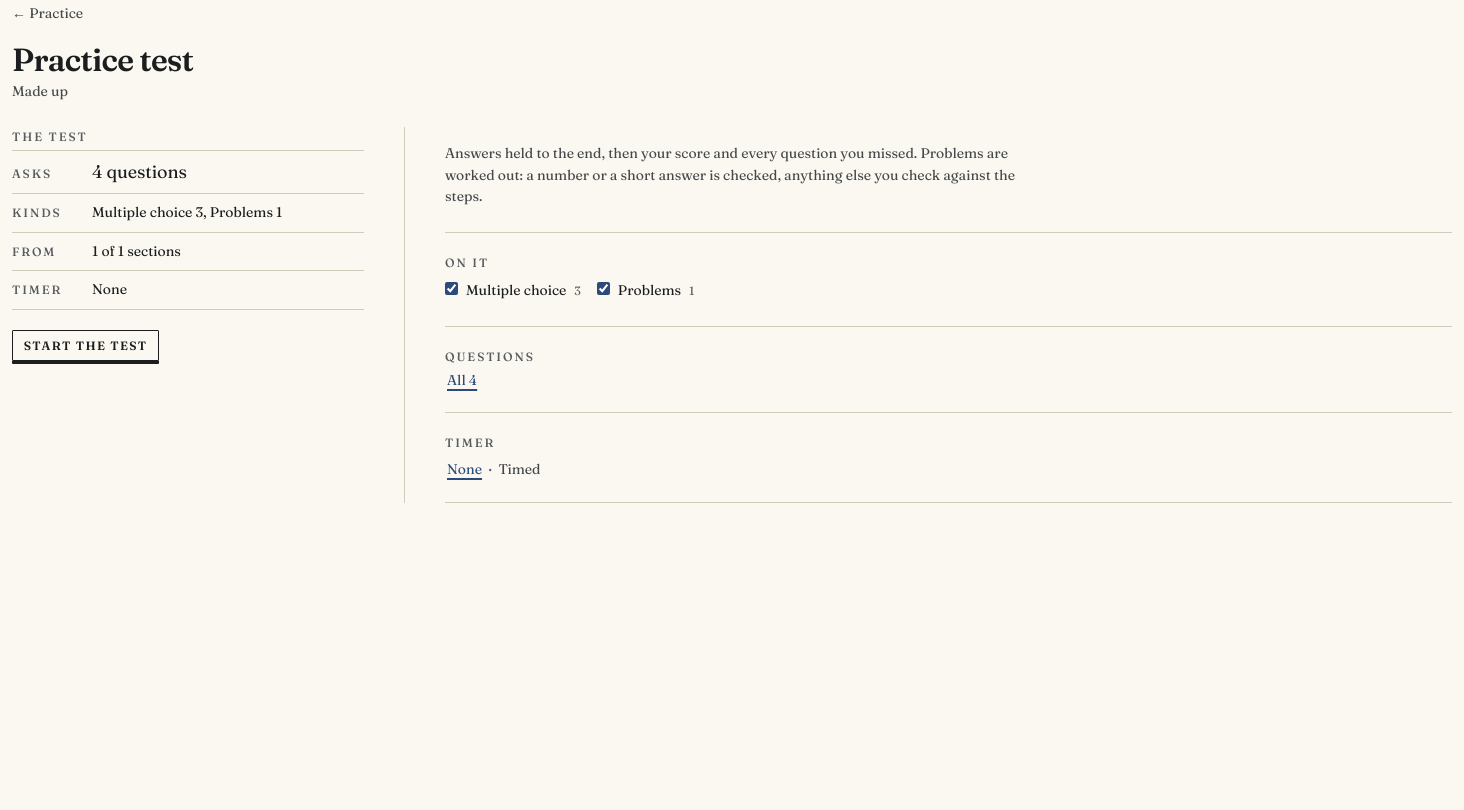
Test: practice test: problems to work out › takes problems when ticked, asks for a number it can read, and marks it at the end with the mistake behind it
Earlier steps of the test are not shown.
Click the checkbox labelled "Multiple choice 3": (452, 289) [445,282,458,295]
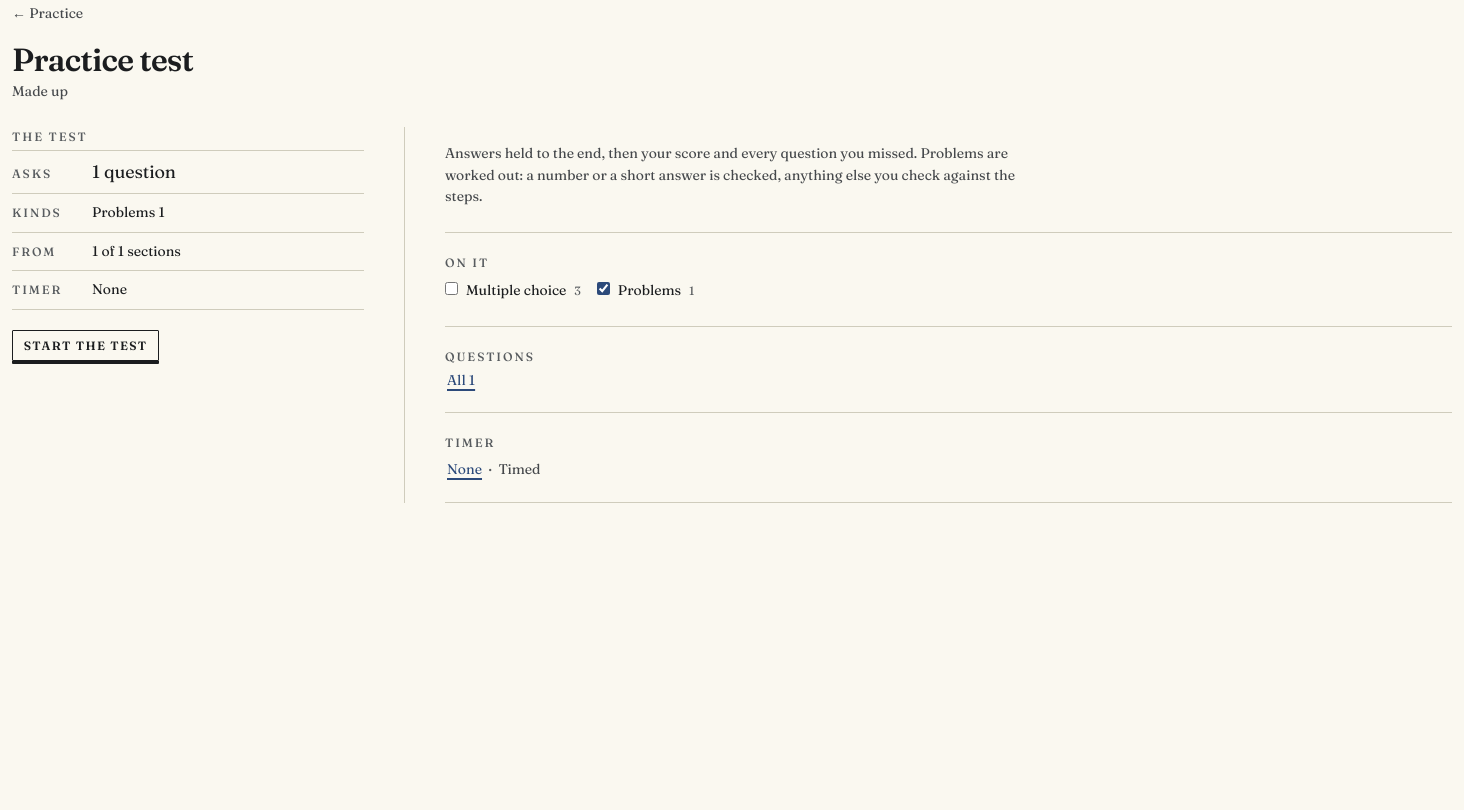
Click the button "Start the test": (86, 346) [12,330,159,361]
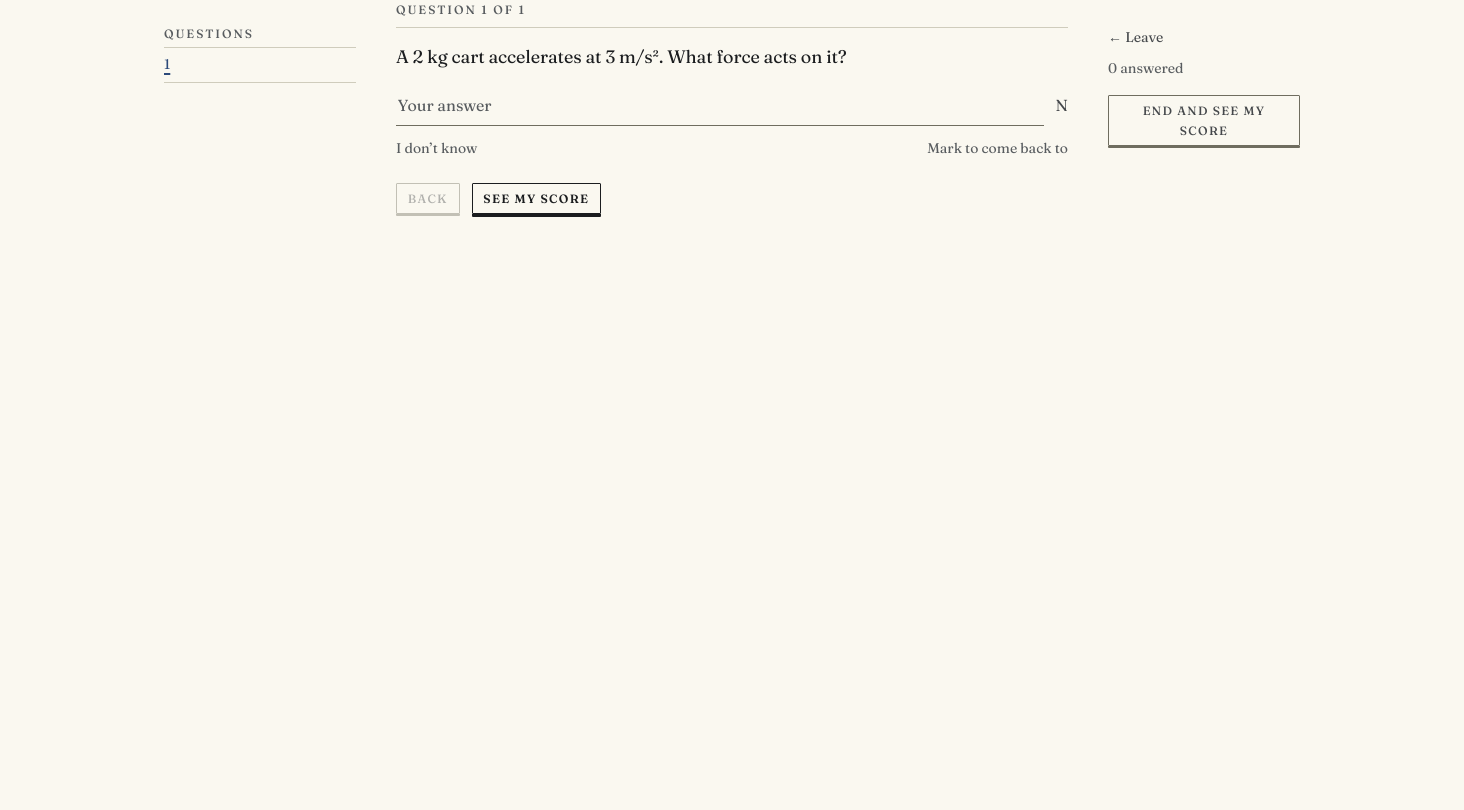
In the field named "Your answer, in N": (720, 106) [396,85,1044,126], type "six"
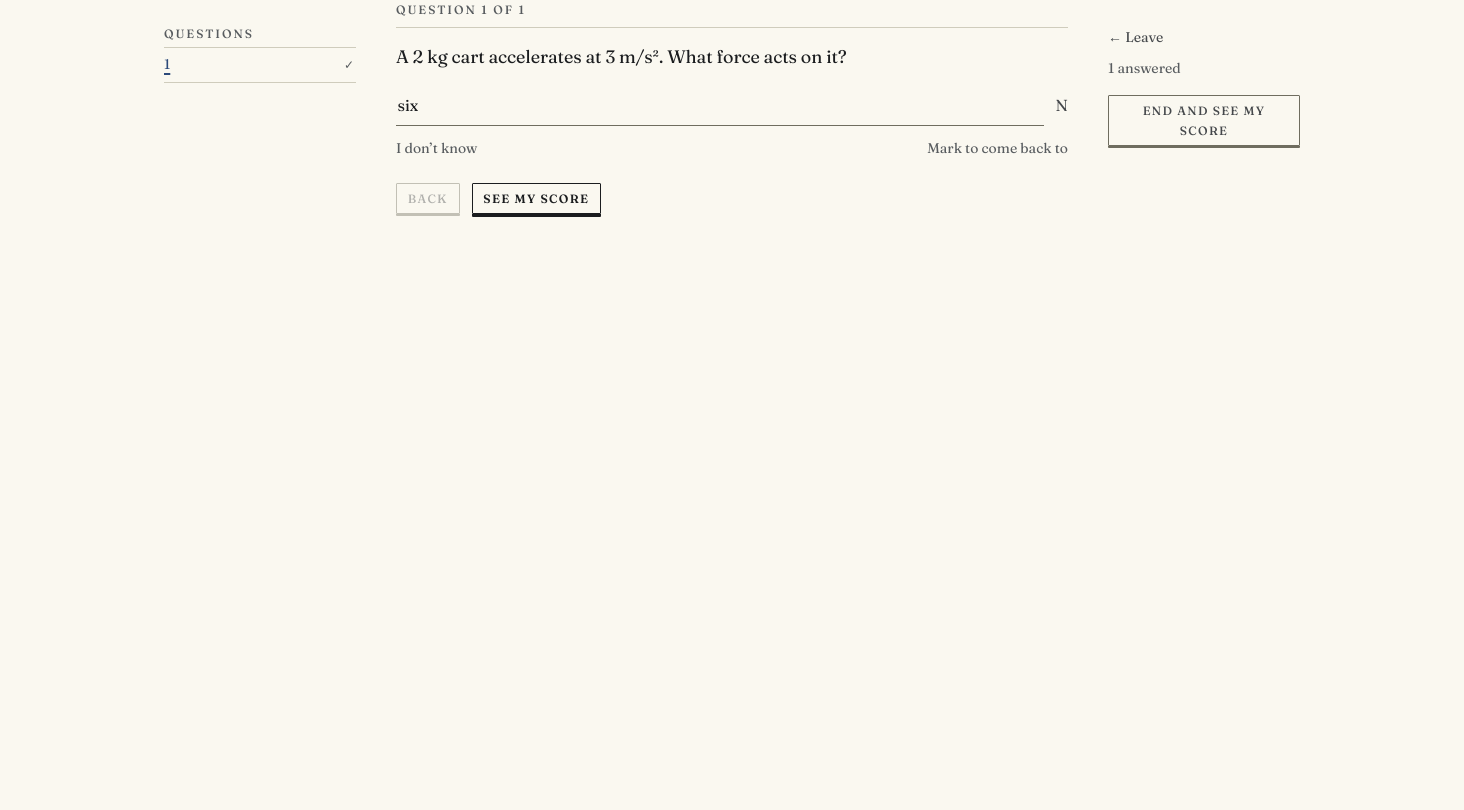
Submit the form named "Your answer, in N", box [396,85,1068,126]
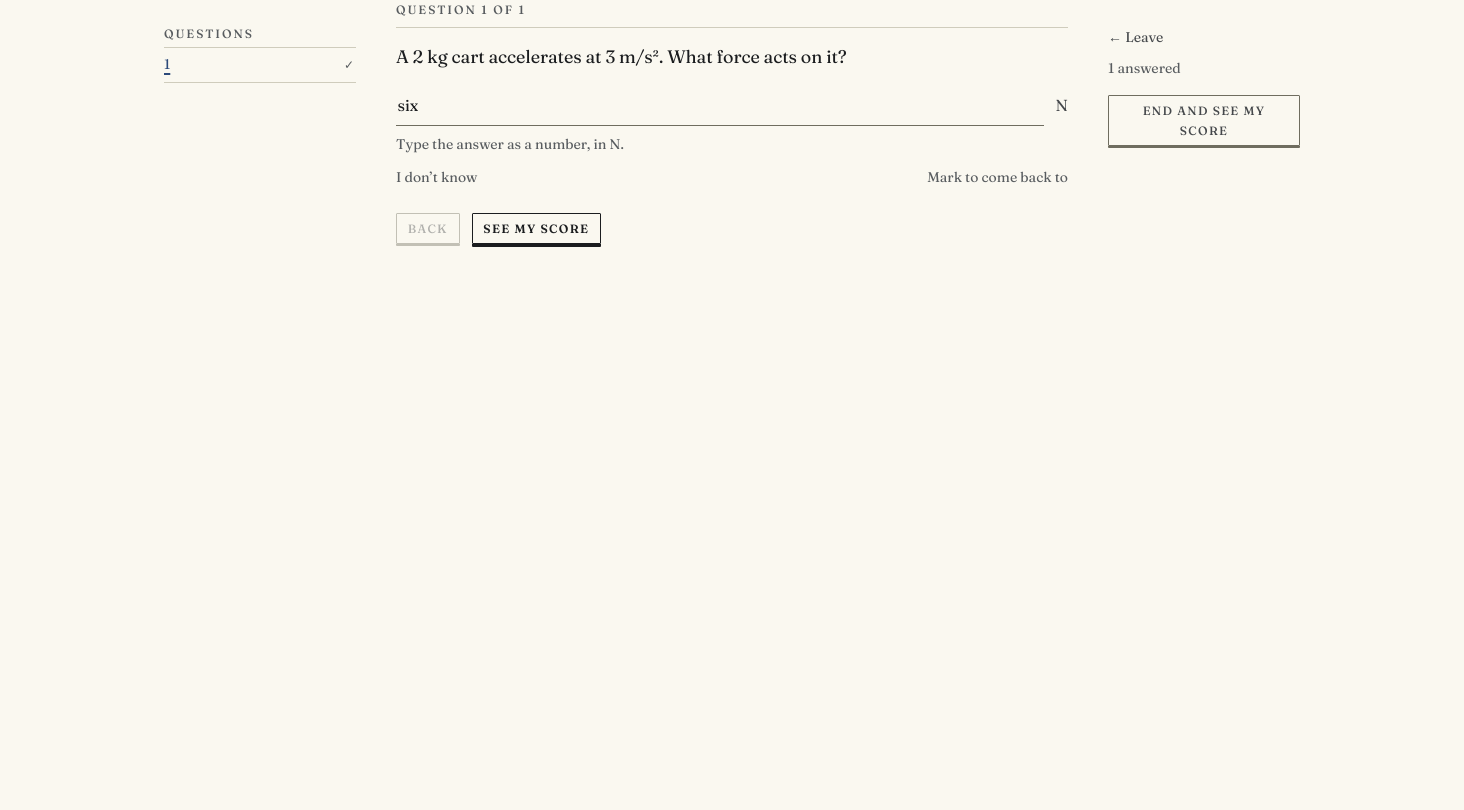
Expected: the text "Type the answer as a number, in N." is shown, [396,134,624,152]
Replace the text in the field named "Your answer, in N" with "1.5": (720, 106) [396,85,1044,126]
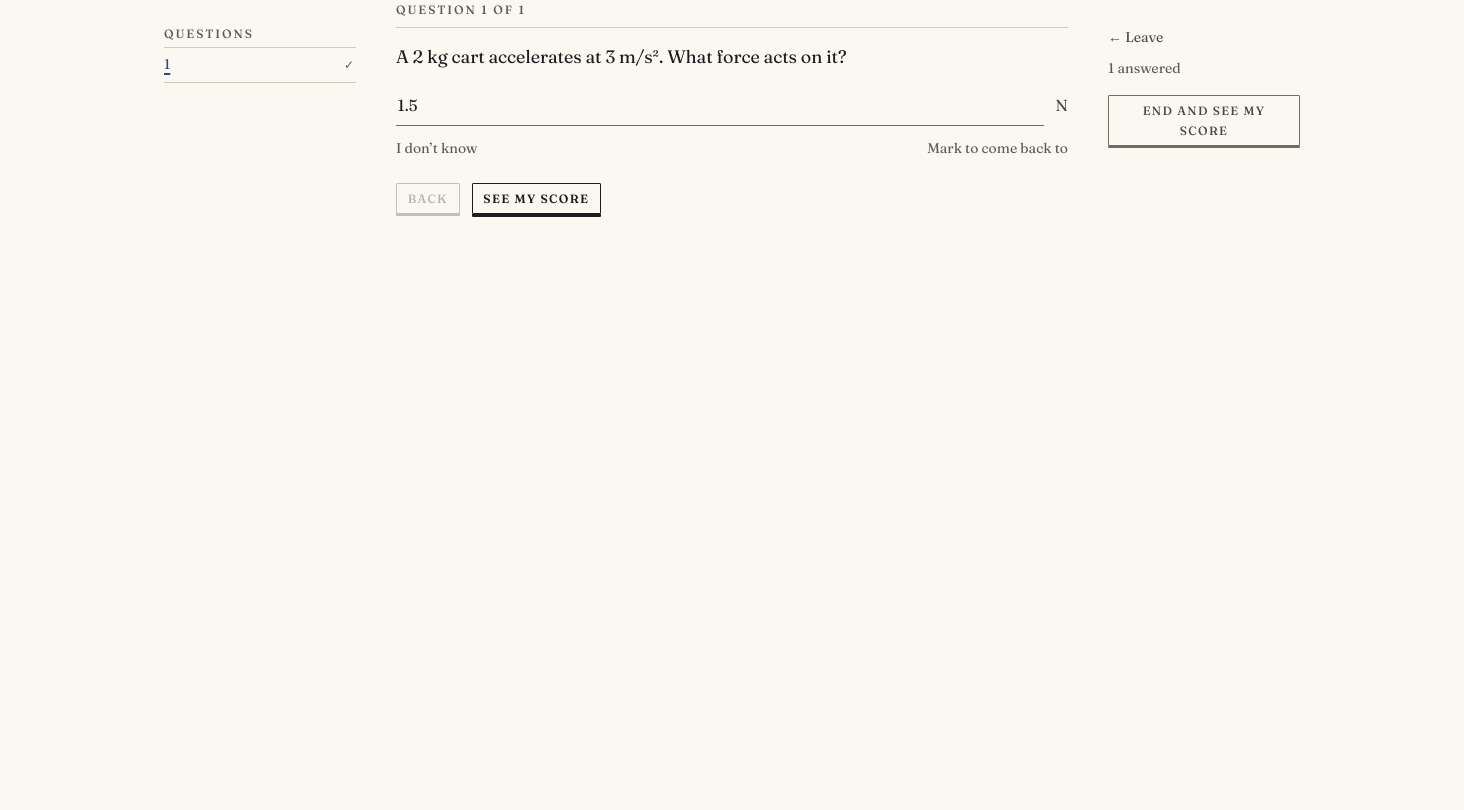
Click the button "See my score": (536, 199) [472,183,601,214]
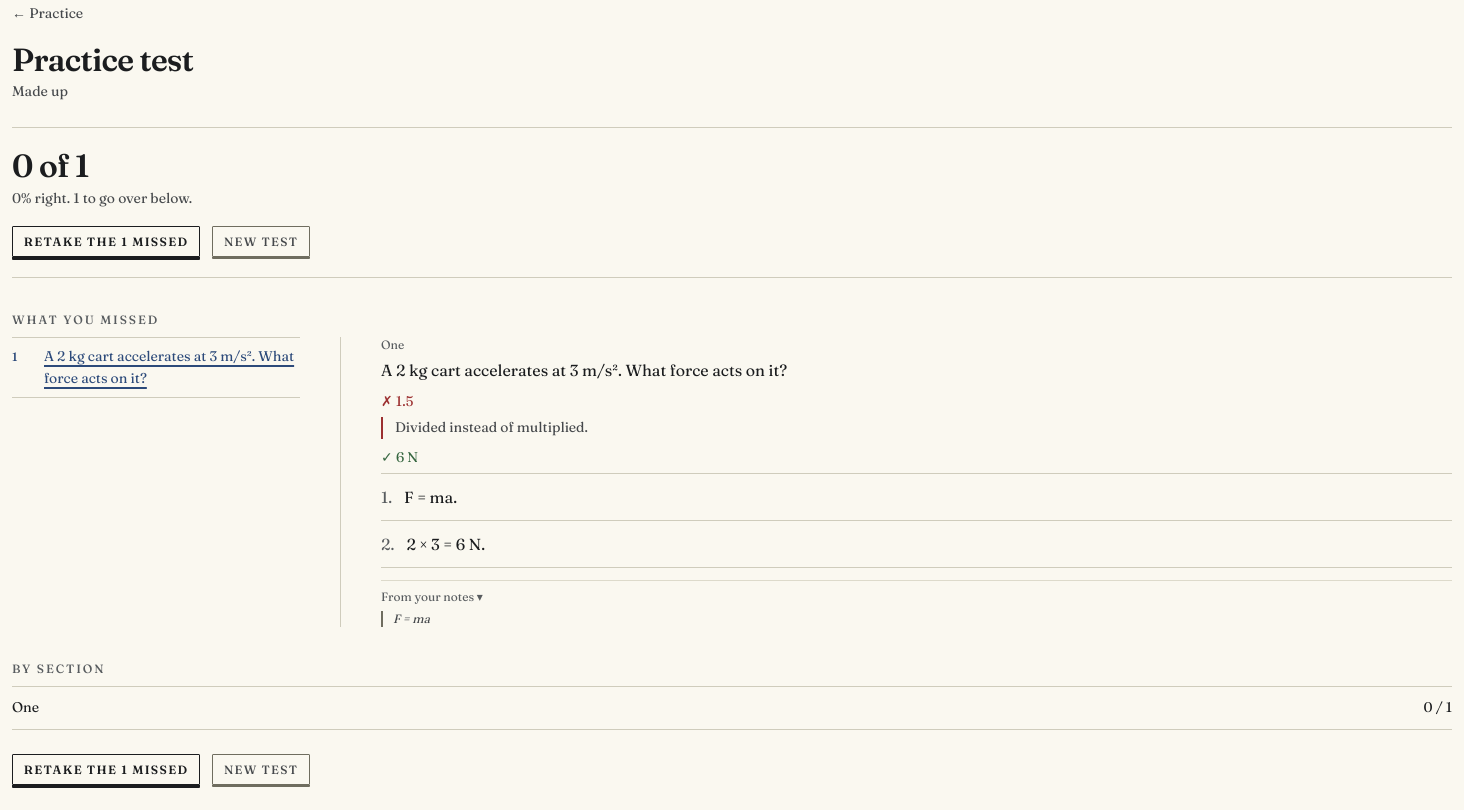
Expected: the text "0 of 1" is shown, [12,146,89,185]
Expected: the text "Divided instead of multiplied." is shown, [381,417,1452,439]
Expected: the text "✓ 6 N" is shown, [381,448,418,466]
